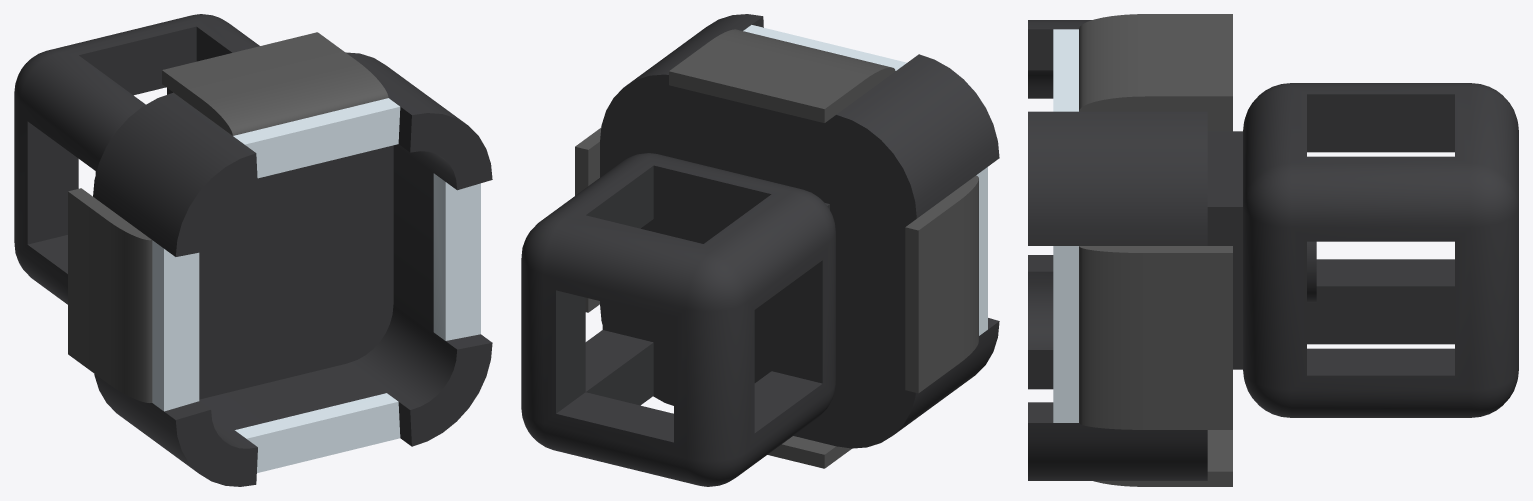
File: token_transporter.fbx
3 renders of one model, left to right at view 1: azimuth 30°, elevation 25°; view 2: azimuth 150°, elevation 25°; view 3: azimuth 270°, elevation 25°, orthographic. The views are drawn at different scales.
Visible parts, largest first — view 1: Cube; view 2: Cube; view 3: Cube.
Boxes of the visible parts, x1,y1,x2,y2 form: Cube: [14, 14, 492, 486]; Cube: [521, 14, 999, 486]; Cube: [1028, 14, 1518, 486].
Size of the model in its own units: 312 by 312 by 356.
